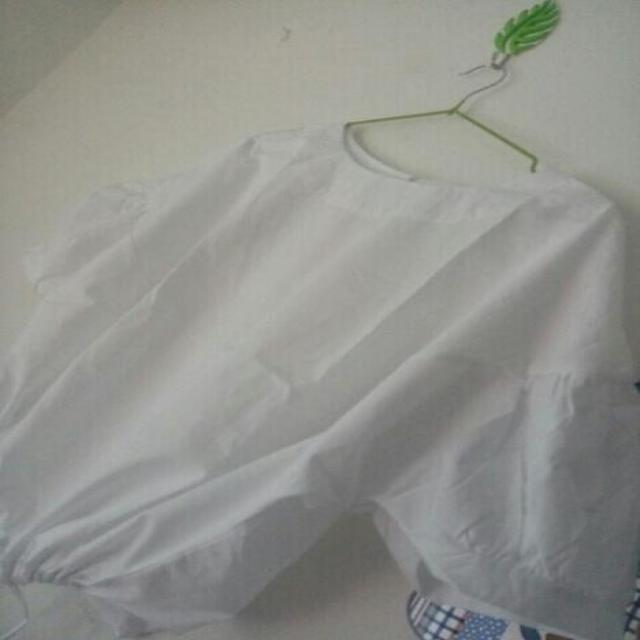short-sleeve-top: (96, 98, 633, 632)
